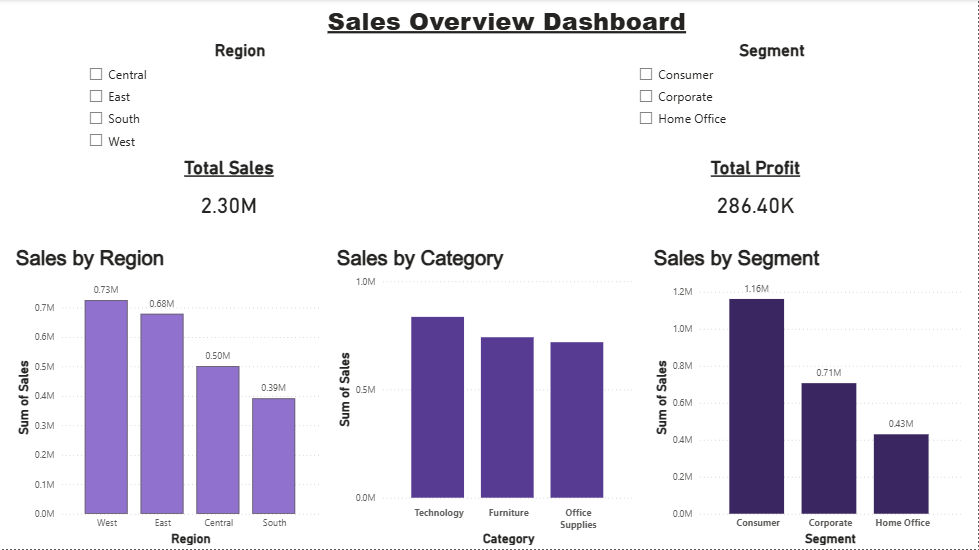

The page's visual inventory and layout, read from the dashboard file:
{"tool":"powerbi","page":{"name":"Page 1","canvas":[1280,720],"ordinal":0},"visuals":[{"type":"clusteredColumnChart","title":" Sales by Region","fields":{"Category":["Sample - Superstore.Region"],"Y":["Sum(Sample - Superstore.Sales)"]},"box":[15.1,320.7,407.4,399.1],"z":0},{"type":"clusteredColumnChart","title":"Sales by Segment","fields":{"Category":["Sample - Superstore.Segment"],"Y":["Sum(Sample - Superstore.Sales)"]},"box":[850.6,320.7,411.5,399.1],"z":1000},{"type":"card","title":"Total Sales","fields":{"Values":["Sum(Sample - Superstore.Sales)"]},"box":[0,206.8,599.6,96.9],"z":2000},{"type":"card","title":"Total Profit","fields":{"Values":["Sum(Sample - Superstore.Profit)"]},"box":[697.7,206.8,582.5,96.9],"z":3000},{"type":"textbox","box":[356.1,0,614.8,70.6],"z":4000},{"type":"slicer","title":"Region","fields":{"Values":["Sample - Superstore.Region"]},"box":[104.7,55,418.9,151.9],"z":5000},{"type":"slicer","title":"Segment","fields":{"Values":["Sample - Superstore.Segment"]},"box":[824.7,55,371.8,151.9],"z":6000},{"type":"clusteredColumnChart","title":"Sales by Category","fields":{"Y":["Sum(Sample - Superstore.Sales)"],"Category":["Sample - Superstore.Category"]},"box":[436.3,320.7,399.1,399.1],"z":7000}]}

Visuals, with their boxes in screenshot pixels (x1, y1, x2, y2), scaled from the page's 1280x720 canvas onto the 979x550 screenshot:
" Sales by Region" clusteredColumnChart: crop(12, 245, 323, 549)
"Sales by Segment" clusteredColumnChart: crop(651, 245, 965, 549)
"Total Sales" card: crop(0, 158, 459, 232)
"Total Profit" card: crop(534, 158, 978, 232)
textbox: crop(272, 0, 743, 54)
"Region" slicer: crop(80, 42, 400, 158)
"Segment" slicer: crop(631, 42, 915, 158)
"Sales by Category" clusteredColumnChart: crop(334, 245, 639, 549)
